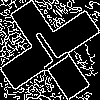T: (25, 25, 76, 80)
